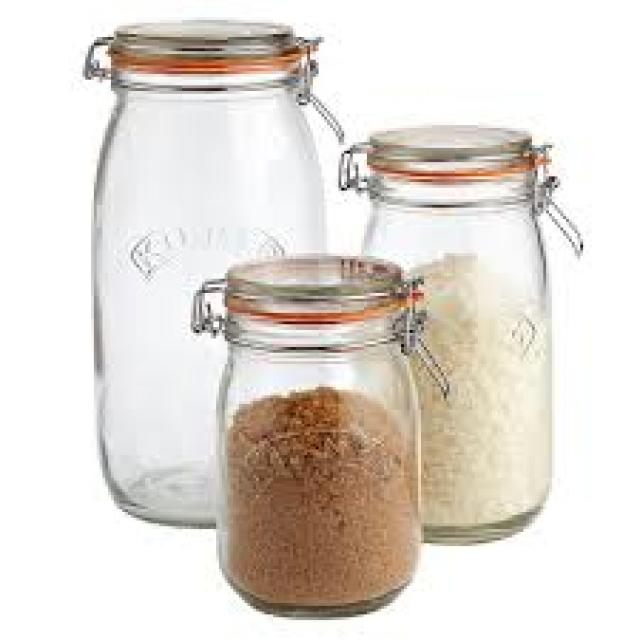organic waste: (228, 384, 412, 597), (410, 250, 538, 520)
